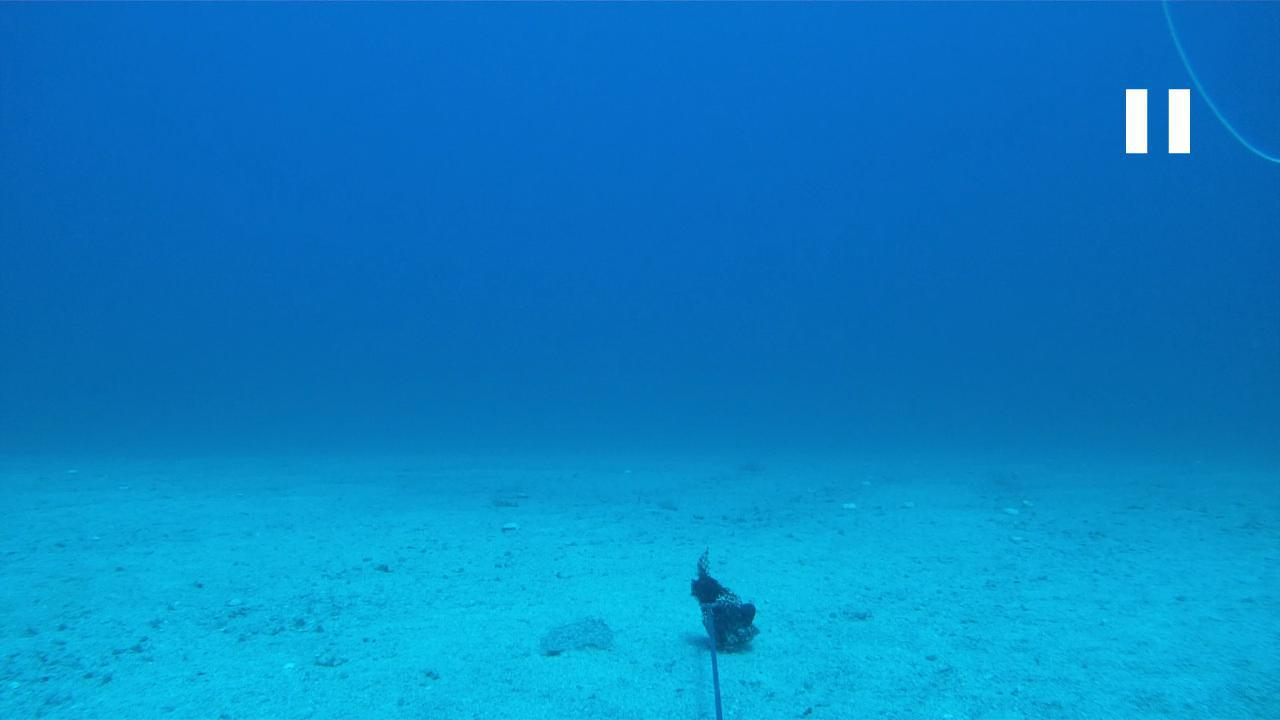bothus: (527, 610, 616, 660)
